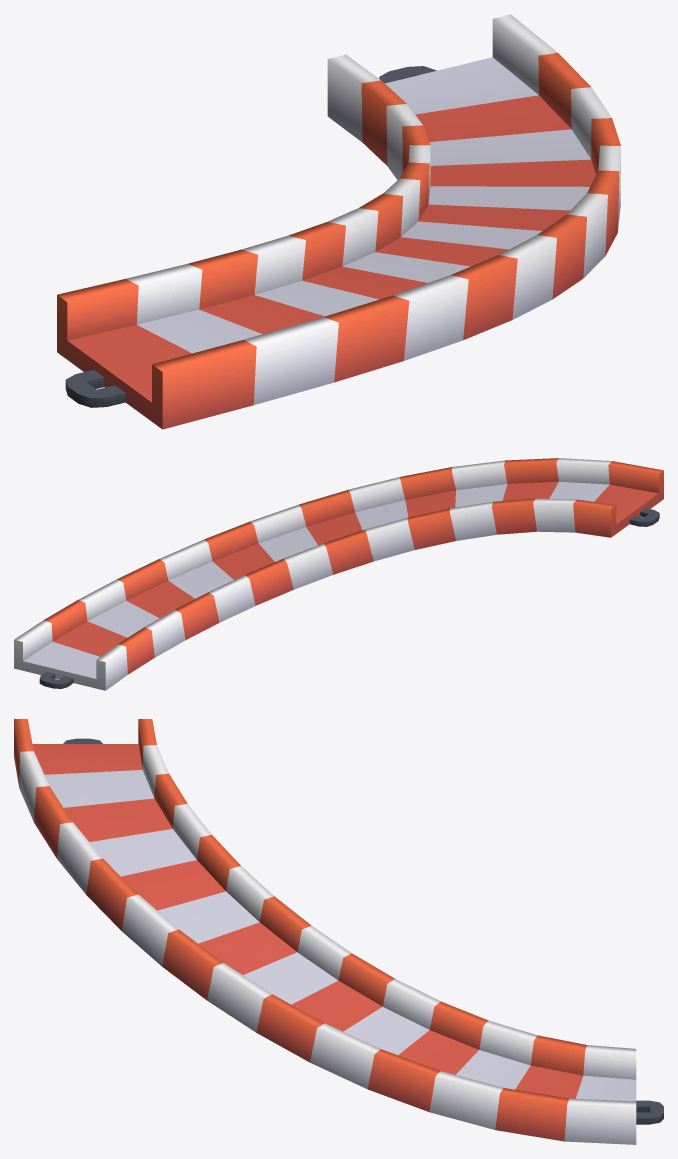
Rendered from track-striped-narrow-corner-large-ramp.glb.
The picture shows the model from 3 angles, top to bottom: view 1: azimuth 30°, elevation 25°; view 2: azimuth 150°, elevation 25°; view 3: azimuth 270°, elevation 25°; orthographic projection. The views are drawn at different scales.
Visible parts, largest first — view 1: track-striped-narrow-corner-large-ramp; view 2: track-striped-narrow-corner-large-ramp; view 3: track-striped-narrow-corner-large-ramp.
Part boxes in pixels (<box>): track-striped-narrow-corner-large-ramp: <box>57,14,620,429</box>; track-striped-narrow-corner-large-ramp: <box>14,458,663,690</box>; track-striped-narrow-corner-large-ramp: <box>14,719,663,1144</box>.
Size of the model in its own units: 4.7 by 1.3 by 4.7.
Materials: 1 (1 with a texture image).
